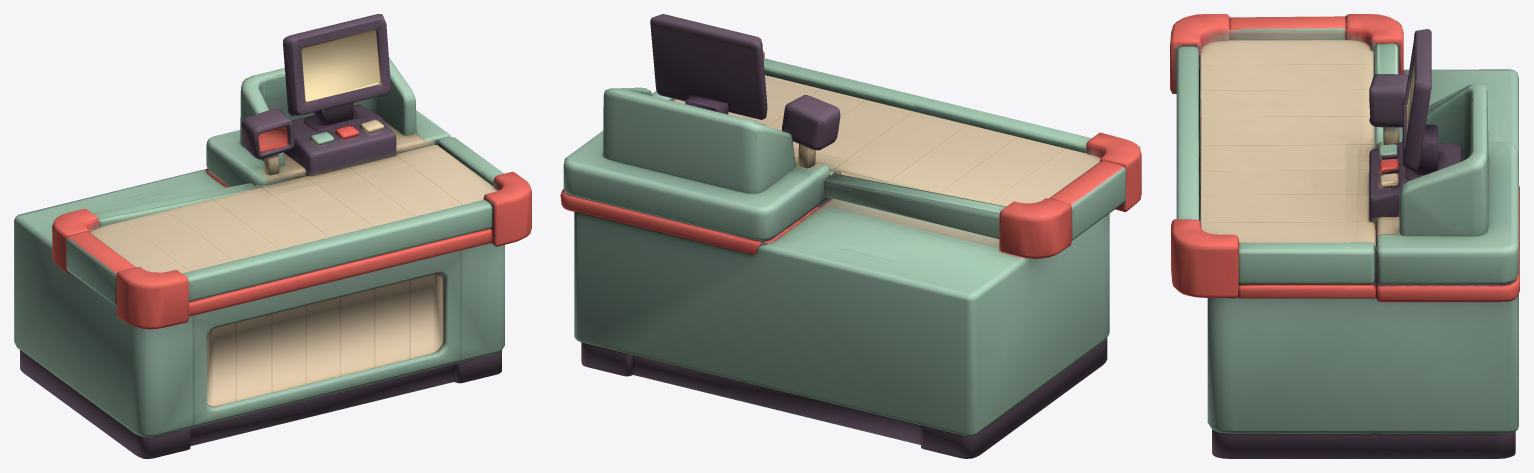
File: checkout.glb
3 views of the same model, side by side, from view 1: azimuth 30°, elevation 25°; view 2: azimuth 150°, elevation 25°; view 3: azimuth 270°, elevation 25° (orthographic). The views are drawn at different scales.
Visible parts, largest first — view 1: Checkout Register; view 2: Checkout Register; view 3: Checkout Register.
Boxes of the visible parts, left/top/right/bottom form: Checkout Register: left=14, top=14, right=531, bottom=458; Checkout Register: left=560, top=14, right=1141, bottom=458; Checkout Register: left=1170, top=14, right=1519, bottom=458.
Size of the model in its own units: 0.998 by 0.7129 by 0.6348.
Materials: 1 (1 with a texture image).
